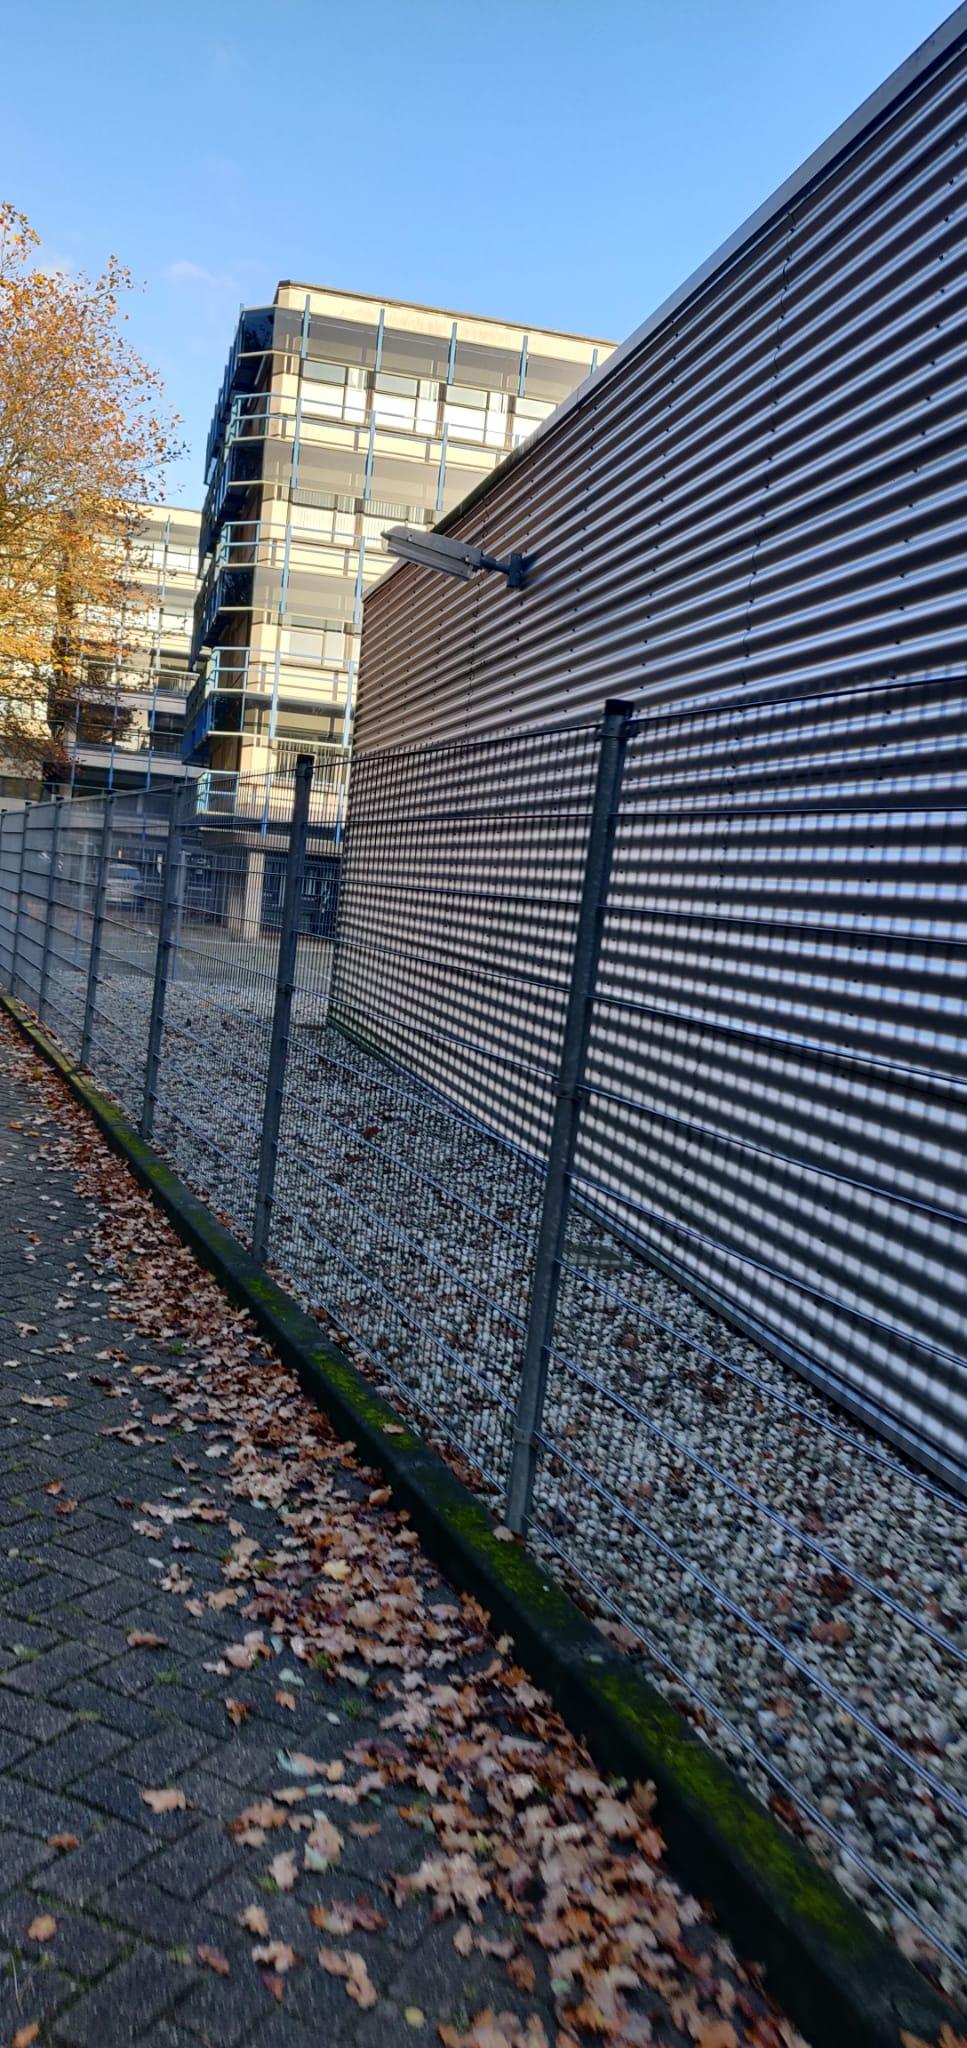obstacle: (162, 293, 895, 1875)
